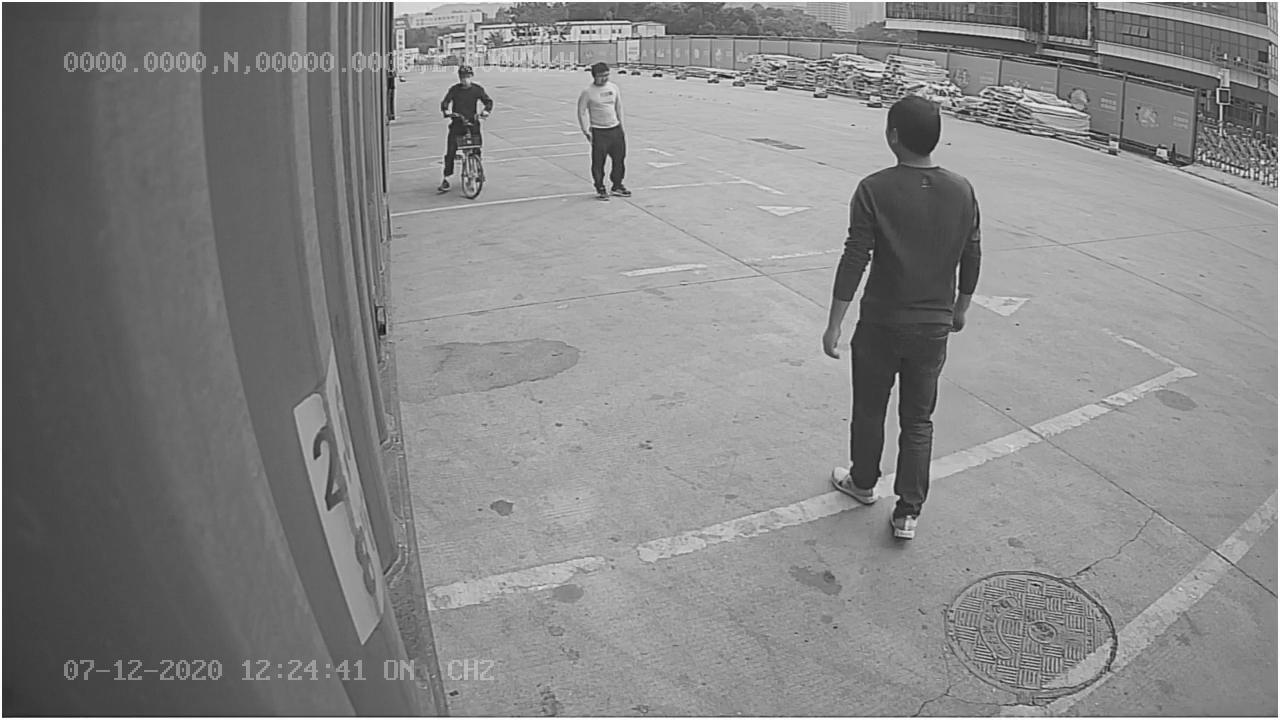person: (568, 60, 635, 202)
